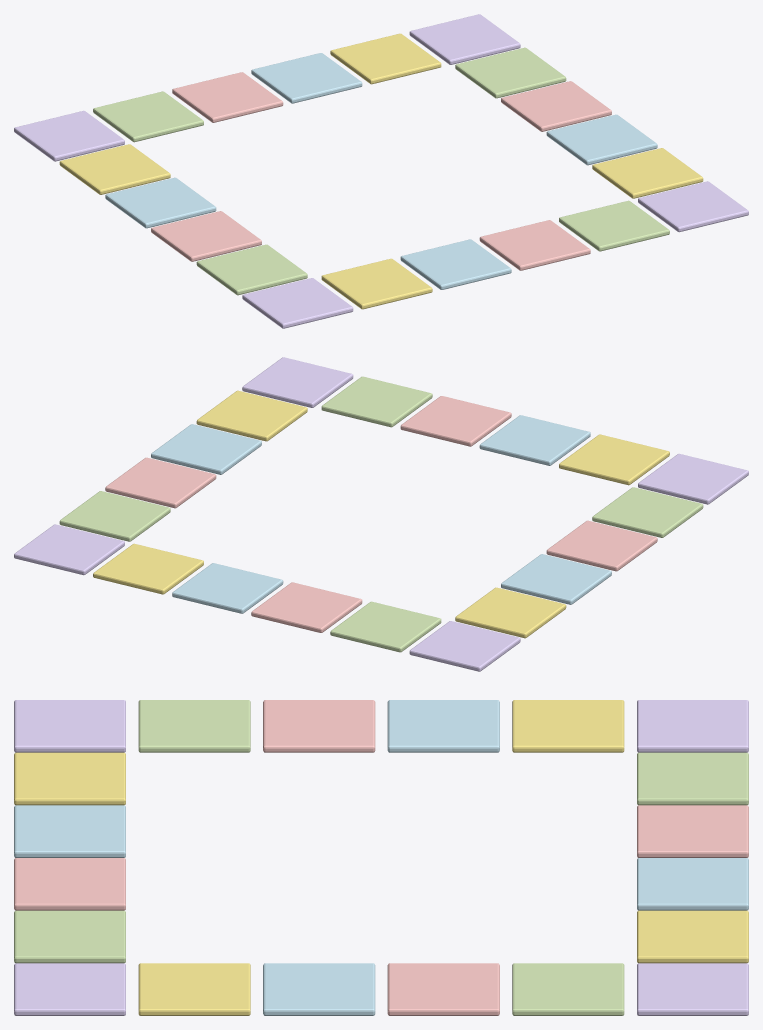
File: yatai-board.glb
3 renders of one model, top to bottom at view 1: azimuth 30°, elevation 25°; view 2: azimuth 150°, elevation 25°; view 3: azimuth 270°, elevation 25°, orthographic. The views are drawn at different scales.
Visible parts, largest first — view 1: Board_tile_04, Board_tile_14, Board_tile_03, Board_tile_09, Board_tile_13, Board_tile_19, Board_tile_01, Board_tile_07, Board_tile_11, Board_tile_17, Board_tile_00, Board_tile_02 (+8 smaller); view 2: Board_tile_01, Board_tile_11, Board_tile_02, Board_tile_06, Board_tile_12, Board_tile_16, Board_tile_04, Board_tile_08, Board_tile_14, Board_tile_18, Board_tile_03, Board_tile_05 (+8 smaller); view 3: Board_tile_06, Board_tile_09, Board_tile_16, Board_tile_19, Board_tile_01, Board_tile_04, Board_tile_11, Board_tile_14, Board_tile_02, Board_tile_03, Board_tile_12, Board_tile_13 (+8 smaller).
Boxes of the visible parts, x1=… form: Board_tile_04: x1=59, y1=144, x2=170, y2=194; Board_tile_14: x1=592, y1=148, x2=703, y2=198; Board_tile_03: x1=105, y1=177, x2=216, y2=228; Board_tile_09: x1=330, y1=33, x2=441, y2=84; Board_tile_13: x1=546, y1=114, x2=657, y2=165; Board_tile_19: x1=321, y1=258, x2=432, y2=309; Board_tile_01: x1=196, y1=244, x2=307, y2=295; Board_tile_07: x1=172, y1=72, x2=283, y2=122; Board_tile_11: x1=455, y1=47, x2=566, y2=98; Board_tile_17: x1=479, y1=220, x2=590, y2=270; Board_tile_00: x1=242, y1=278, x2=353, y2=328; Board_tile_02: x1=151, y1=211, x2=261, y2=261; Board_tile_01: x1=592, y1=487, x2=703, y2=537; Board_tile_11: x1=59, y1=491, x2=170, y2=541; Board_tile_02: x1=546, y1=520, x2=657, y2=571; Board_tile_06: x1=330, y1=601, x2=441, y2=652; Board_tile_12: x1=105, y1=457, x2=216, y2=508; Board_tile_16: x1=321, y1=376, x2=432, y2=427; Board_tile_04: x1=455, y1=587, x2=566, y2=638; Board_tile_08: x1=172, y1=563, x2=283, y2=613; Board_tile_14: x1=196, y1=390, x2=307, y2=441; Board_tile_18: x1=479, y1=415, x2=590, y2=465; Board_tile_03: x1=501, y1=554, x2=611, y2=604; Board_tile_05: x1=409, y1=621, x2=520, y2=671; Board_tile_06: x1=637, y1=752, x2=748, y2=805; Board_tile_09: x1=637, y1=910, x2=748, y2=963; Board_tile_16: x1=14, y1=910, x2=125, y2=963; Board_tile_19: x1=14, y1=752, x2=125, y2=805; Board_tile_01: x1=138, y1=700, x2=250, y2=752; Board_tile_04: x1=512, y1=700, x2=624, y2=752; Board_tile_11: x1=512, y1=963, x2=624, y2=1015; Board_tile_14: x1=138, y1=963, x2=250, y2=1015; Board_tile_02: x1=263, y1=700, x2=375, y2=752; Board_tile_03: x1=387, y1=700, x2=499, y2=752; Board_tile_12: x1=387, y1=963, x2=499, y2=1015; Board_tile_13: x1=263, y1=963, x2=375, y2=1015.
Size of the model in its own units: 23.6 by 0.25 by 23.6.
